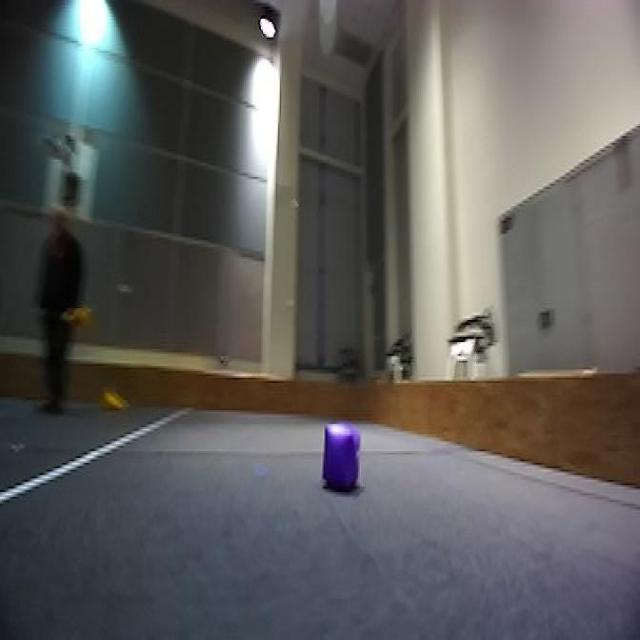frc_cone: (67, 301, 93, 332), (101, 386, 124, 412)
frc_cube: (323, 422, 361, 492)
